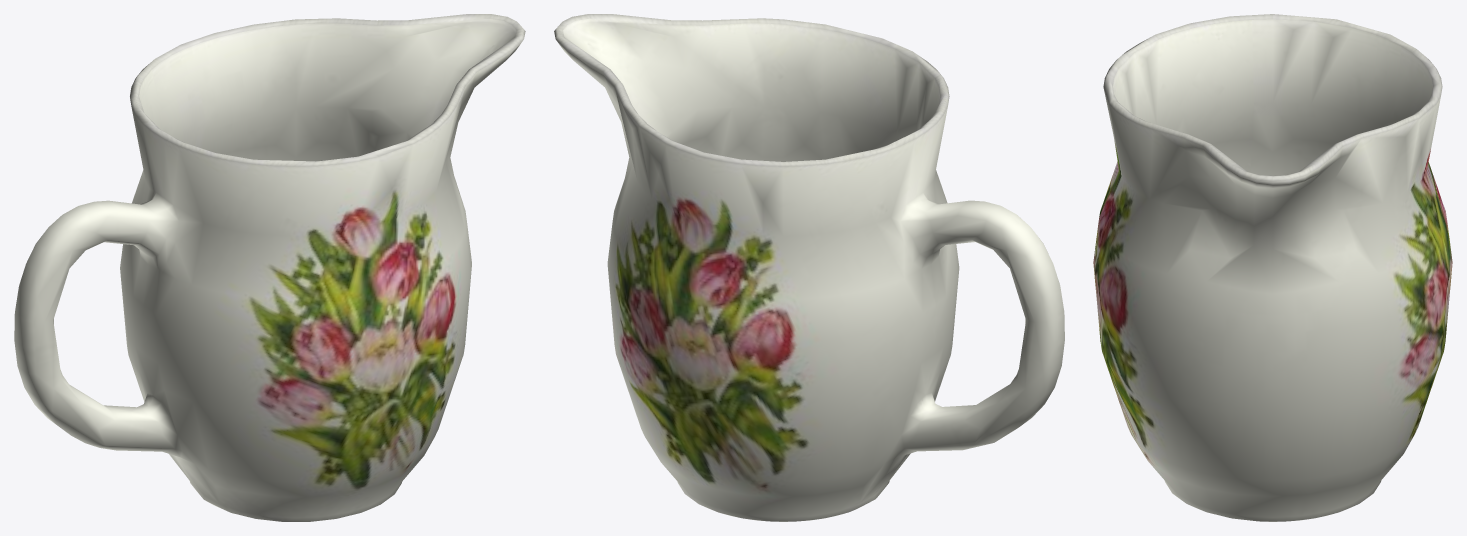
File: jug_01.glb
3 views of the same model, side by side, from view 1: azimuth 30°, elevation 25°; view 2: azimuth 150°, elevation 25°; view 3: azimuth 270°, elevation 25° (orthographic). The views are drawn at different scales.
Parts seen in each view (by area): view 1: jug_01; view 2: jug_01; view 3: jug_01.
Part boxes in pixels (x1,y1,x2,y2): jug_01: [14, 14, 525, 521]; jug_01: [554, 14, 1064, 521]; jug_01: [1093, 14, 1452, 521].
Size of the model in its own units: 0.275 by 0.2113 by 0.1675.
Materials: 1 (1 with a texture image).
